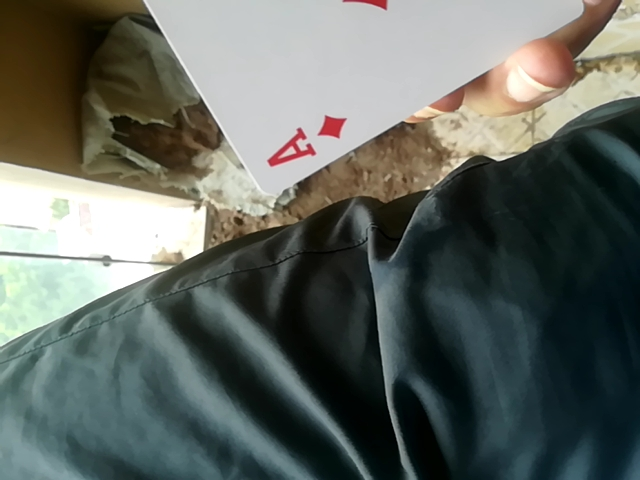fk a: (110, 0, 634, 198)
